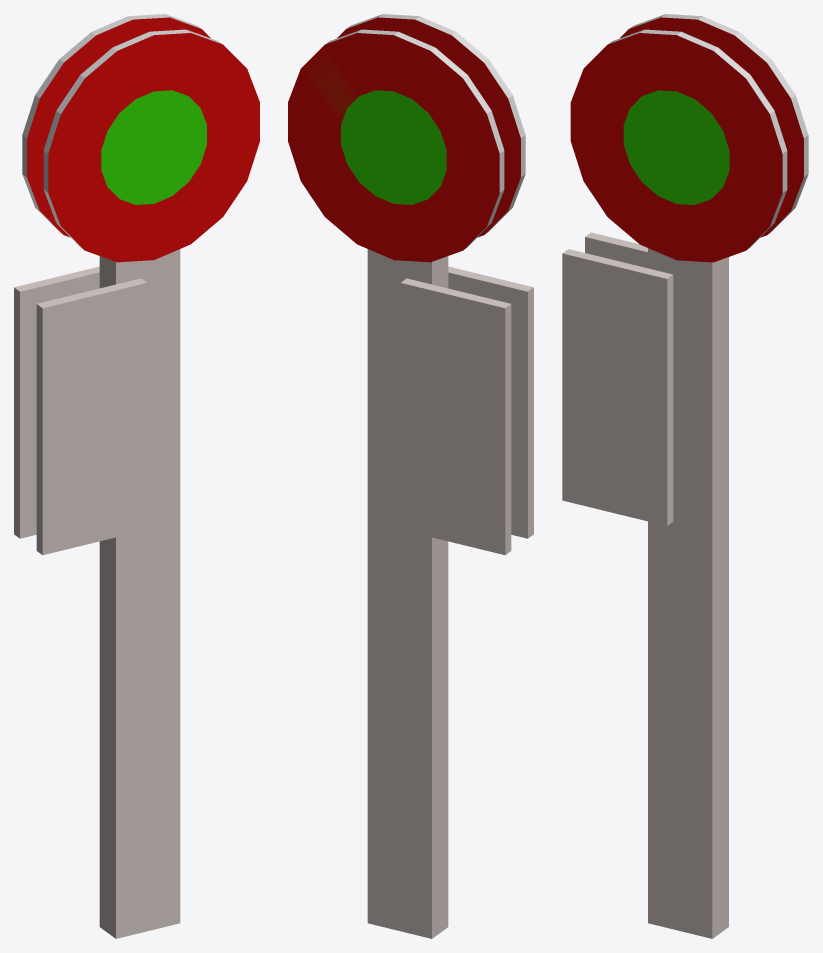
The model's file is SM_gastation_board.FBX.
3 renders of one model, left to right at view 1: azimuth 30°, elevation 25°; view 2: azimuth 150°, elevation 25°; view 3: azimuth 330°, elevation 25°, orthographic.
Parts seen in each view (by area): view 1: Box028; view 2: Box028; view 3: Box028.
Boxes of the visible parts, x1=… form: Box028: x1=14, y1=14, x2=259, y2=938; Box028: x1=288, y1=14, x2=533, y2=938; Box028: x1=562, y1=14, x2=808, y2=938.
Size of the model in its own units: 204 by 800 by 46.29.
